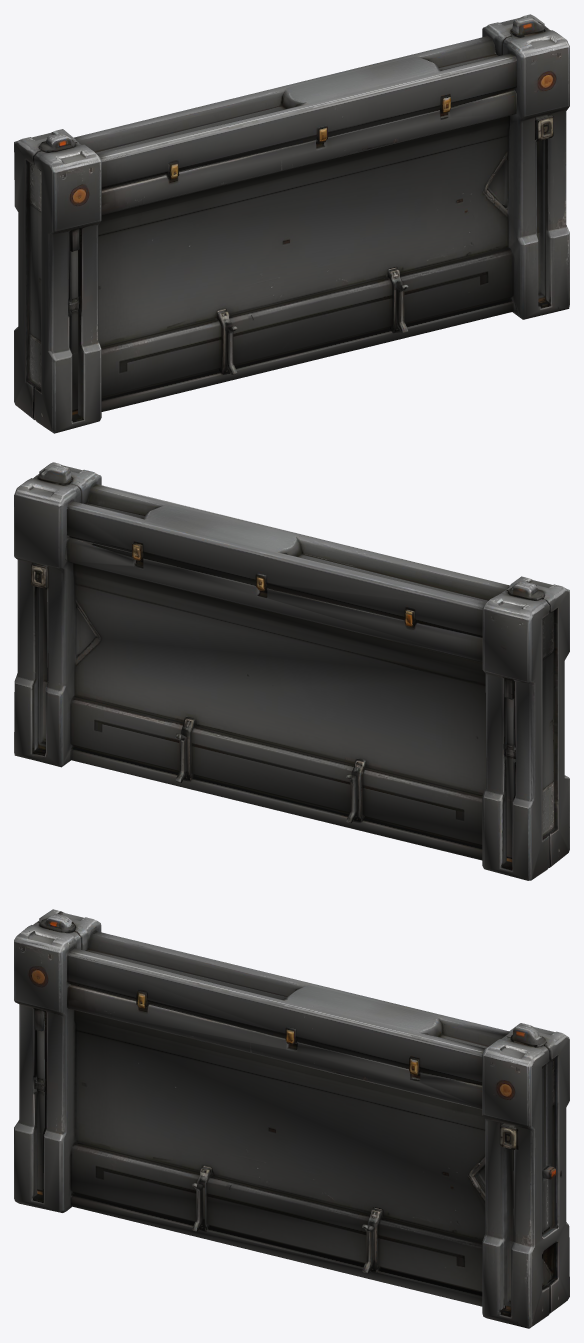
Rendered from selected.glb.
The picture shows the model from 3 angles, top to bottom: view 1: azimuth 30°, elevation 25°; view 2: azimuth 150°, elevation 25°; view 3: azimuth 330°, elevation 25°; orthographic projection.
Visible parts, largest first — view 1: tripo_node_604a8aea-b8b4-4f4f-9ffd-232a92d87f23; view 2: tripo_node_604a8aea-b8b4-4f4f-9ffd-232a92d87f23; view 3: tripo_node_604a8aea-b8b4-4f4f-9ffd-232a92d87f23.
Part boxes in pixels (x1,y1,x2,y2): tripo_node_604a8aea-b8b4-4f4f-9ffd-232a92d87f23: (14, 14, 569, 433); tripo_node_604a8aea-b8b4-4f4f-9ffd-232a92d87f23: (14, 462, 569, 880); tripo_node_604a8aea-b8b4-4f4f-9ffd-232a92d87f23: (14, 909, 569, 1328).
Bounding box in the file's own units: 0.998 × 0.5176 × 0.1387.
Materials: 1 (1 with a texture image).
